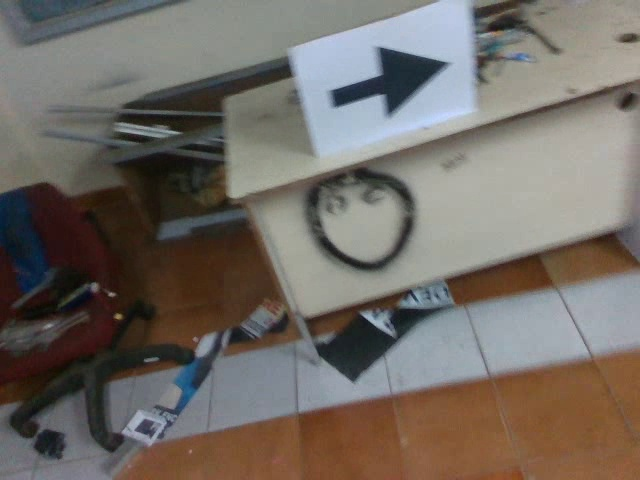Right: (321, 41, 453, 123)
